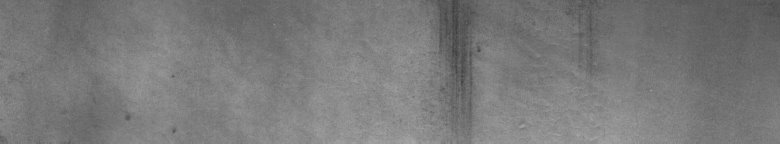ka: (437, 4, 484, 115)
